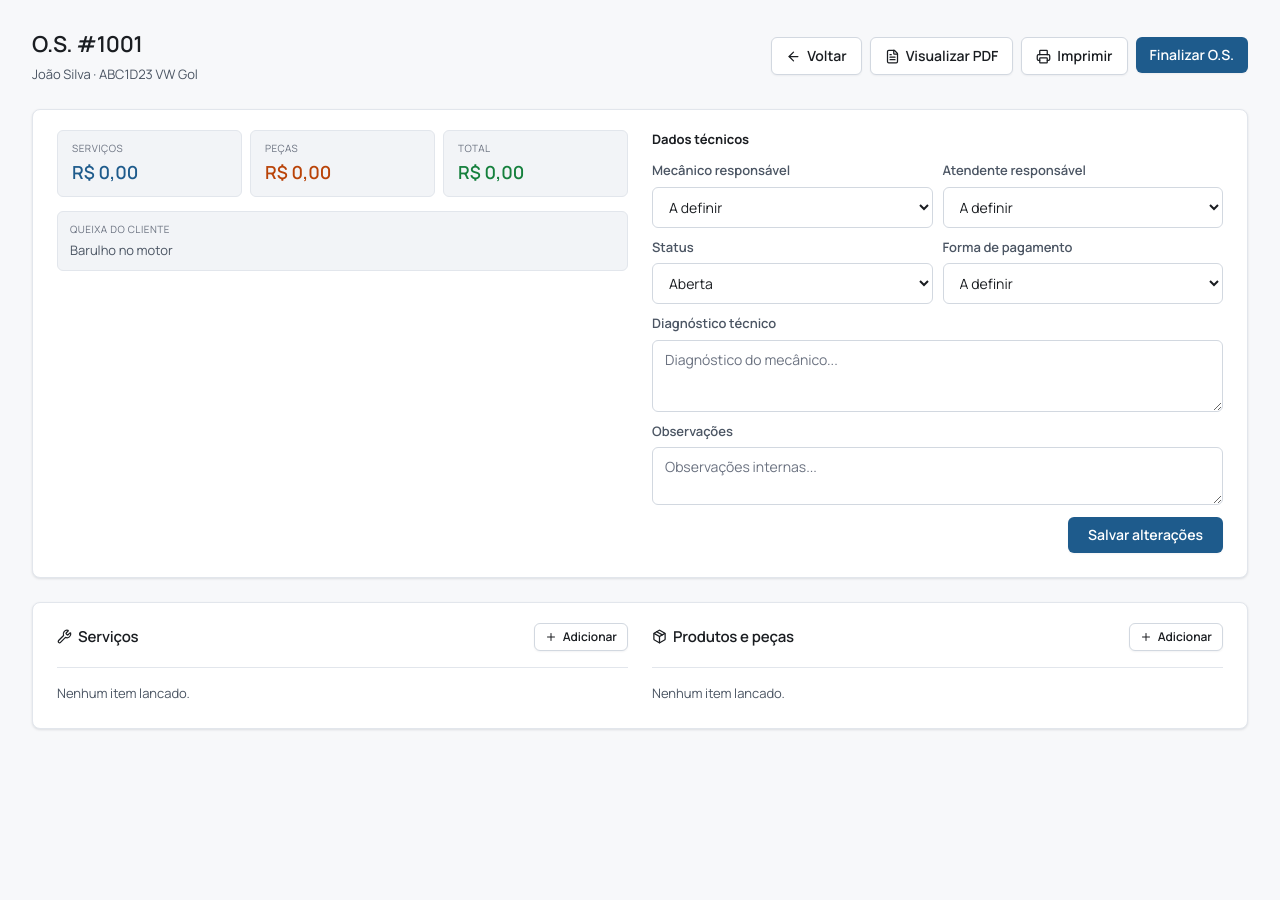
Scenario: Atualizar O.S. — lancamento de itens › lanca um servico e envia servicos_itens e totais no update
Step 1. Click the 1st button "Adicionar" → [581, 637], box [534, 623, 628, 651]
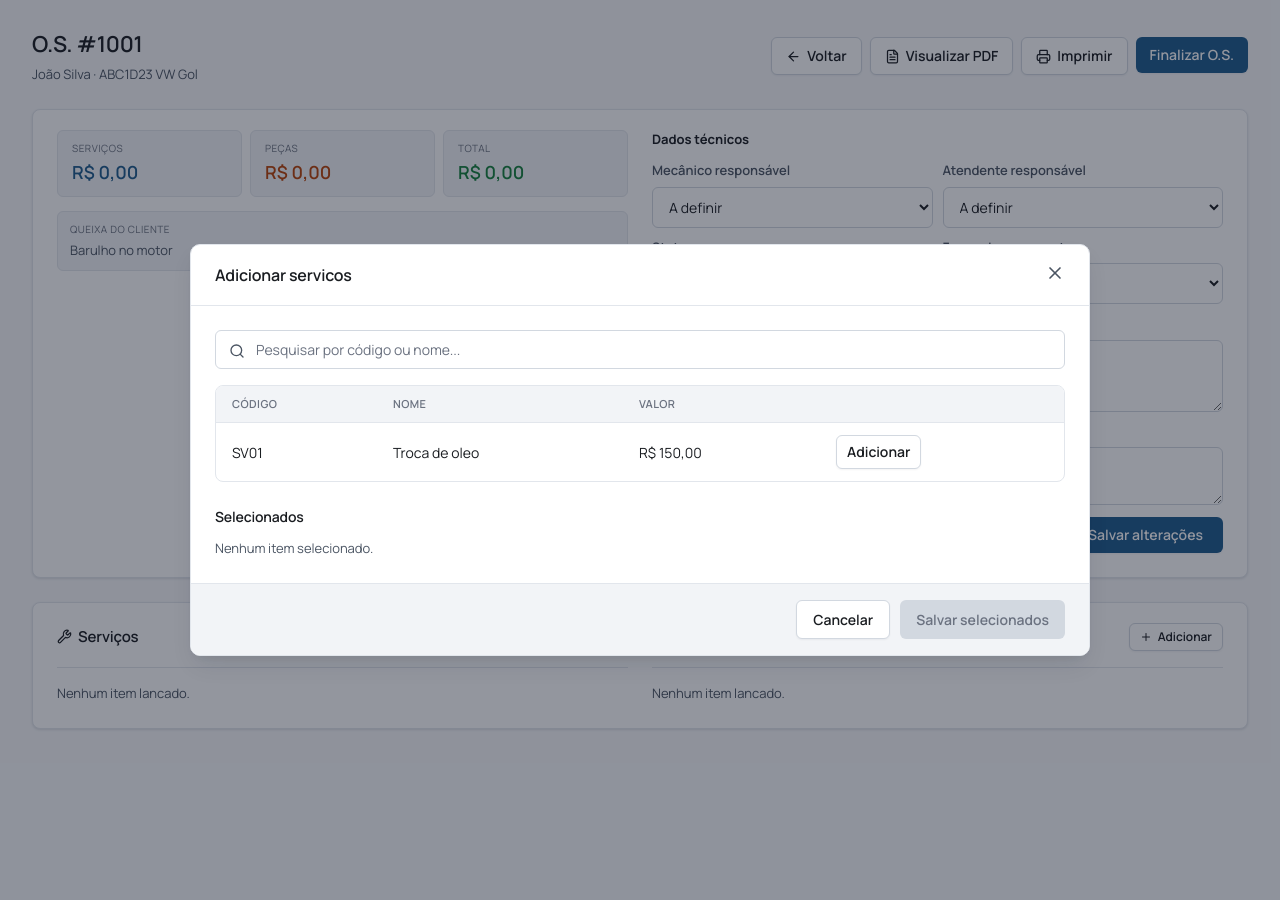
Now the element with class "modal-overlay" is shown
Step 2. Click the button "Adicionar" → [879, 452], box [836, 435, 921, 469]
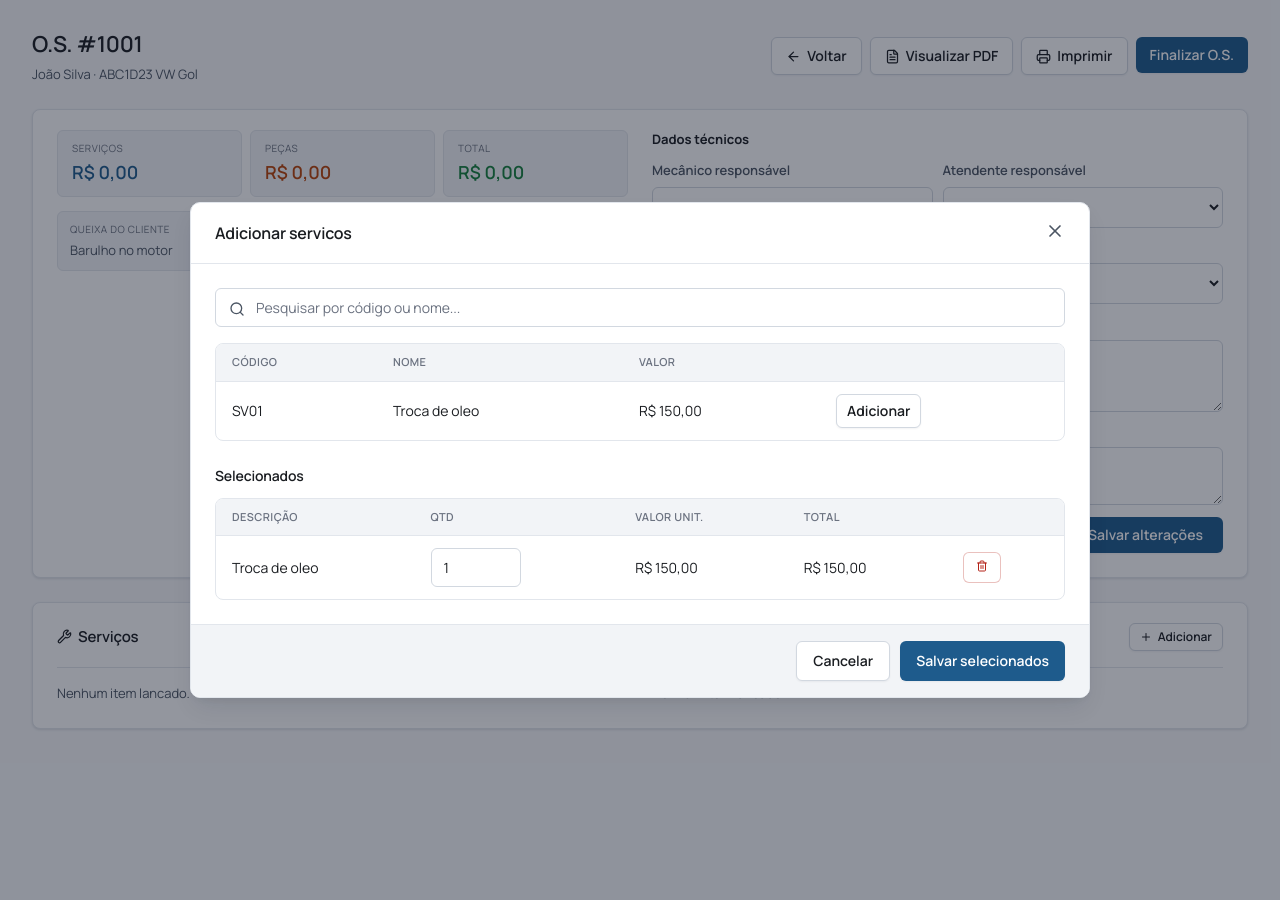
Step 3. Click the button "Salvar selecionados" → [983, 661], box [900, 641, 1065, 681]
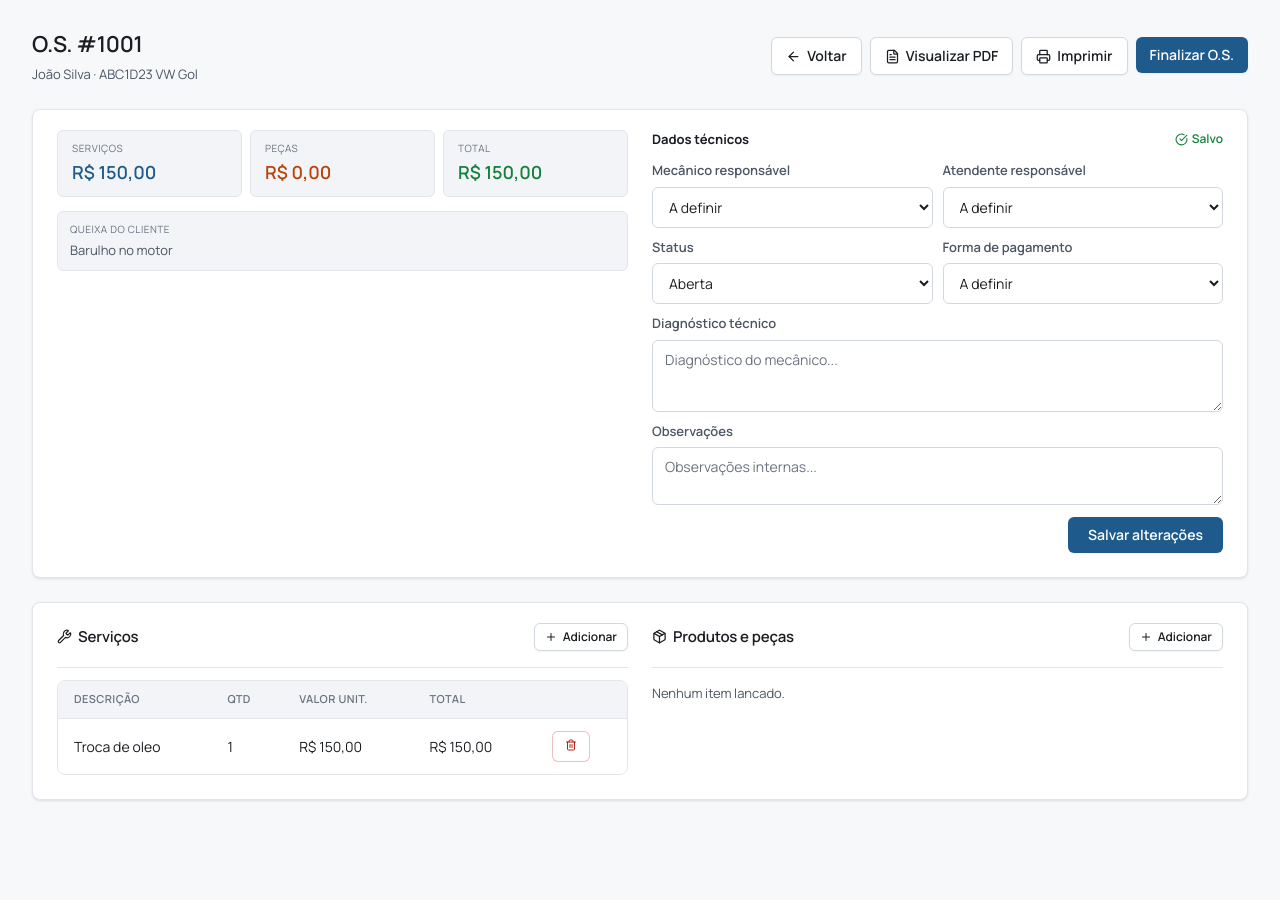
Expected: the text "R$ 0,00" is shown, [265, 160, 331, 184]
Now the 1st text "R$ 150,00" is shown, box [72, 160, 156, 184]
